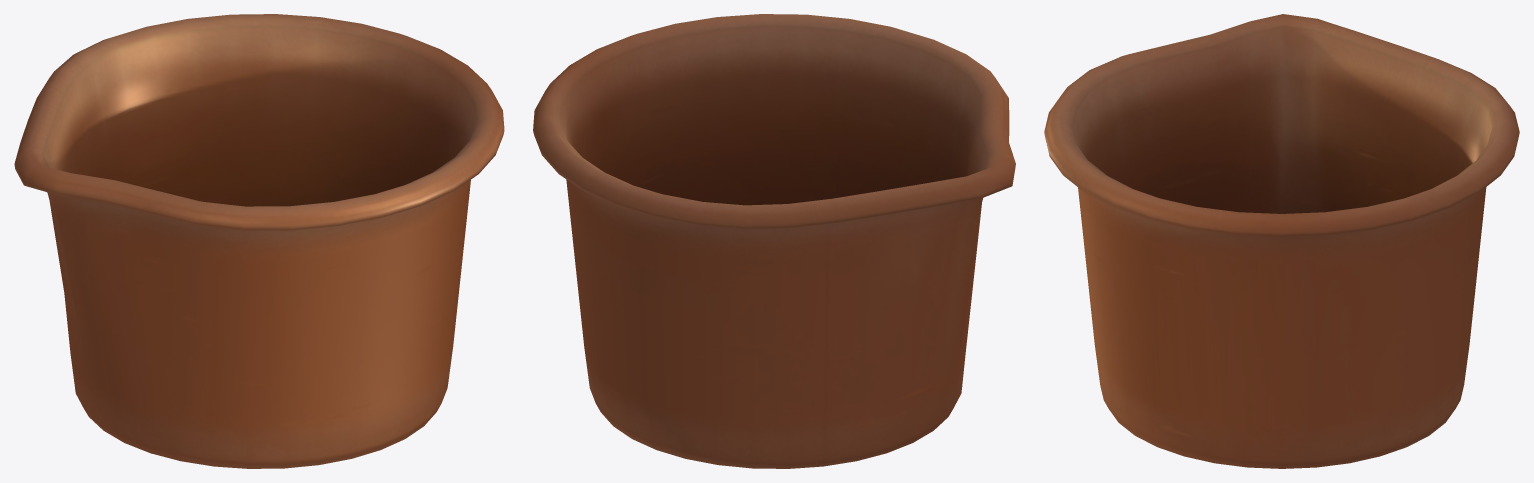
File: Hops crate.glb
The picture shows the model from 3 angles, left to right: view 1: azimuth 30°, elevation 25°; view 2: azimuth 150°, elevation 25°; view 3: azimuth 270°, elevation 25°; orthographic projection. The views are drawn at different scales.
Parts seen in each view (by area): view 1: Hops crate.002; view 2: Hops crate.002; view 3: Hops crate.002.
Boxes of the visible parts, x1=… form: Hops crate.002: x1=14, y1=14, x2=504, y2=468; Hops crate.002: x1=533, y1=14, x2=1015, y2=468; Hops crate.002: x1=1044, y1=14, x2=1519, y2=468.
Size of the model in its own units: 0.3909 by 0.2366 by 0.369.
1 material, 1 textured.
